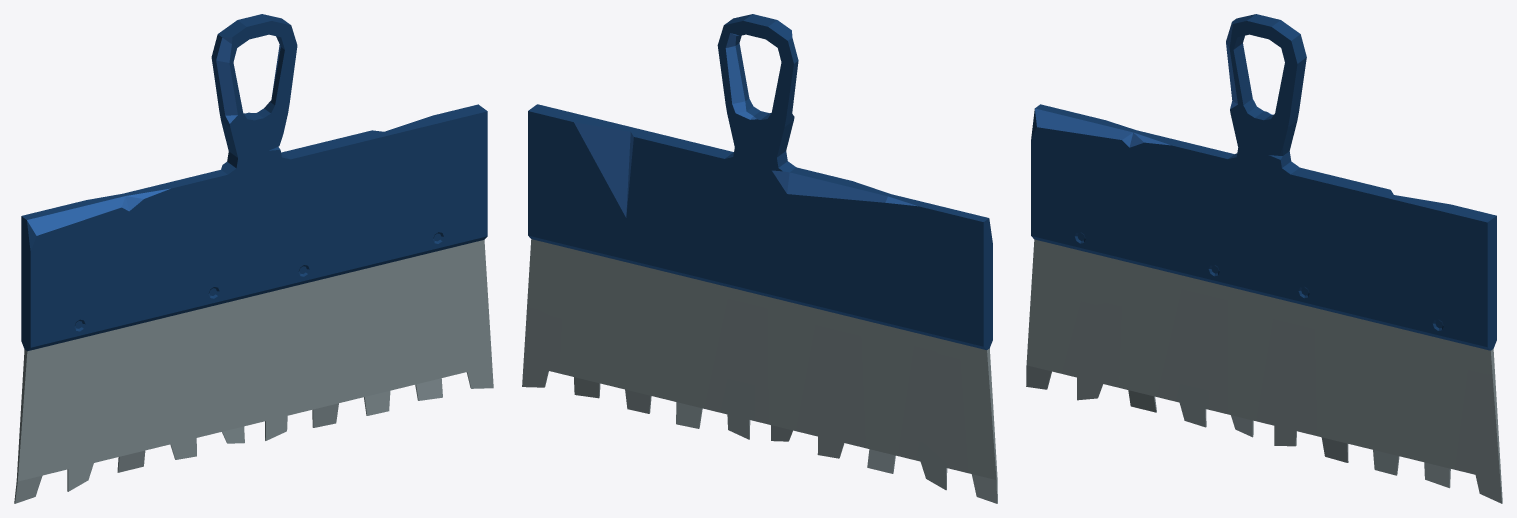
Rendered from SM_Putty_Knife_02.glb.
The picture shows the model from 3 angles, left to right: view 1: azimuth 30°, elevation 25°; view 2: azimuth 150°, elevation 25°; view 3: azimuth 330°, elevation 25°; orthographic projection.
Parts seen in each view (by area): view 1: SM_Putty_Knife_02; view 2: SM_Putty_Knife_02; view 3: SM_Putty_Knife_02.
Part boxes in pixels (x1,y1,x2,y2): SM_Putty_Knife_02: (14, 14, 493, 503); SM_Putty_Knife_02: (522, 14, 997, 503); SM_Putty_Knife_02: (1026, 14, 1502, 503).
Bounding box in the file's own units: 0.2293 × 0.1953 × 0.00782.
1 material, 1 textured.
